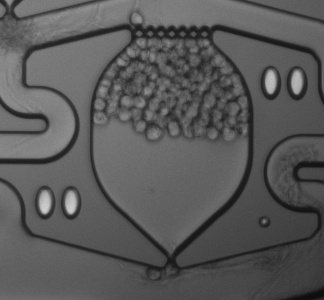AptNum: (253, 60, 313, 108)
Marker: (254, 212, 276, 233)
StNum: (28, 177, 92, 228)
Trap: (144, 257, 200, 300)
